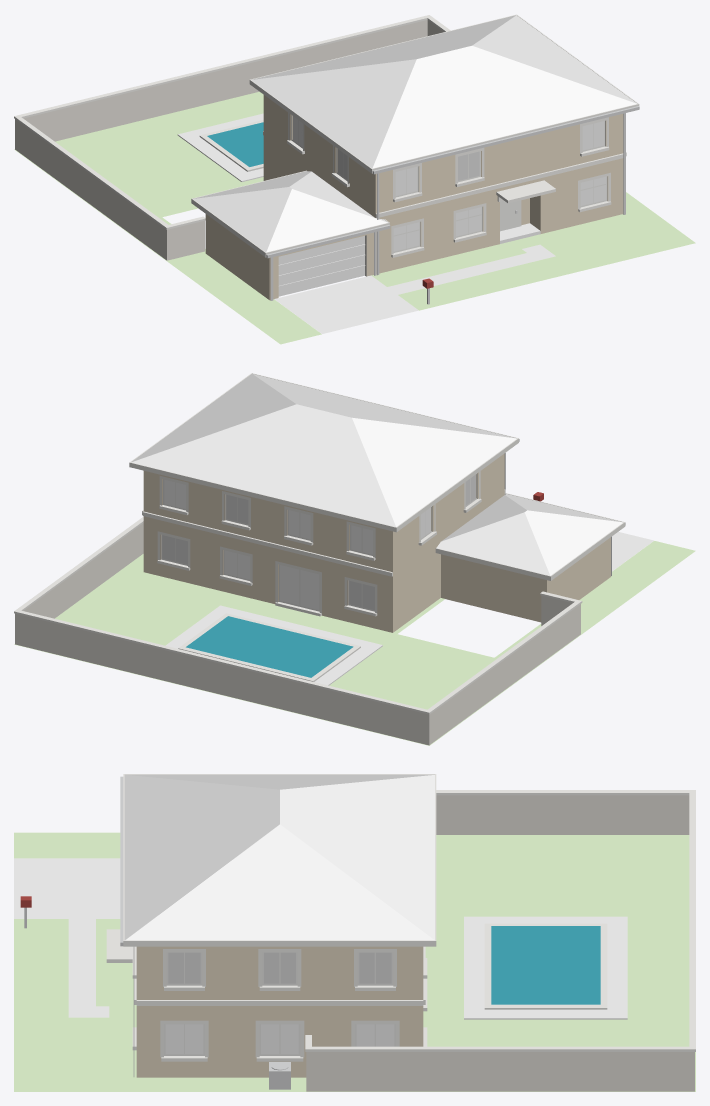
File: house_villa90b.glb
3 renders of one model, top to bottom at view 1: azimuth 30°, elevation 25°; view 2: azimuth 150°, elevation 25°; view 3: azimuth 270°, elevation 25°, orthographic. The views are drawn at different scales.
Visible parts, largest first — view 1: house_villa90b_Roof, house_villa90b_Lawn, house_villa90b_Walls, house_villa90b_Walls2, house_villa90b_Trim, house_villa90b_Site, house_villa90b_Doors, house_villa90b_Glass, house_villa90b_Details, house_villa90b_Frames, house_villa90b_Water, house_villa90b_WindowsLit; view 2: house_villa90b_Roof, house_villa90b_Walls, house_villa90b_Lawn, house_villa90b_Walls2, house_villa90b_Trim, house_villa90b_Water, house_villa90b_Glass, house_villa90b_Site, house_villa90b_WindowsLit, house_villa90b_Frames; view 3: house_villa90b_Lawn, house_villa90b_Roof, house_villa90b_Walls2, house_villa90b_Walls, house_villa90b_Trim, house_villa90b_Site, house_villa90b_Water, house_villa90b_Glass, house_villa90b_WindowsLit, house_villa90b_Frames, house_villa90b_Details.
Part boxes in pixels (<box>): house_villa90b_Roof: <box>193,15,637,252</box>; house_villa90b_Lawn: <box>14,91,695,344</box>; house_villa90b_Walls: <box>205,95,623,300</box>; house_villa90b_Walls2: <box>15,20,443,260</box>; house_villa90b_Trim: <box>14,14,639,276</box>; house_villa90b_Site: <box>177,113,555,333</box>; house_villa90b_Doors: <box>278,235,365,296</box>; house_villa90b_Glass: <box>292,116,606,251</box>; house_villa90b_Details: <box>266,106,639,304</box>; house_villa90b_Frames: <box>291,115,607,252</box>; house_villa90b_Water: <box>207,122,263,166</box>; house_villa90b_WindowsLit: <box>337,149,479,180</box>; house_villa90b_Roof: <box>131,374,622,575</box>; house_villa90b_Walls: <box>143,453,610,632</box>; house_villa90b_Lawn: <box>14,541,695,745</box>; house_villa90b_Walls2: <box>15,523,580,745</box>; house_villa90b_Trim: <box>14,373,625,714</box>; house_villa90b_Water: <box>186,616,353,677</box>; house_villa90b_Glass: <box>164,479,430,609</box>; house_villa90b_Site: <box>165,532,653,685</box>; house_villa90b_WindowsLit: <box>162,474,475,610</box>; house_villa90b_Frames: <box>161,473,477,611</box>; house_villa90b_Lawn: <box>14,832,695,1091</box>; house_villa90b_Roof: <box>124,774,434,940</box>; house_villa90b_Walls2: <box>306,795,694,1091</box>; house_villa90b_Walls: <box>136,946,423,1077</box>; house_villa90b_Trim: <box>106,774,695,1061</box>; house_villa90b_Site: <box>14,858,627,1019</box>; house_villa90b_Water: <box>491,926,600,1004</box>; house_villa90b_Glass: <box>165,1024,394,1054</box>; house_villa90b_WindowsLit: <box>168,952,391,983</box>; house_villa90b_Frames: <box>164,952,395,1055</box>; house_villa90b_Details: <box>24,776,290,1089</box>.
Bounding box in the file's own units: 90 × 31.21 × 100.
